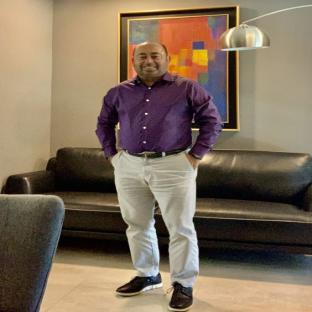Human: (96, 42, 222, 311)
